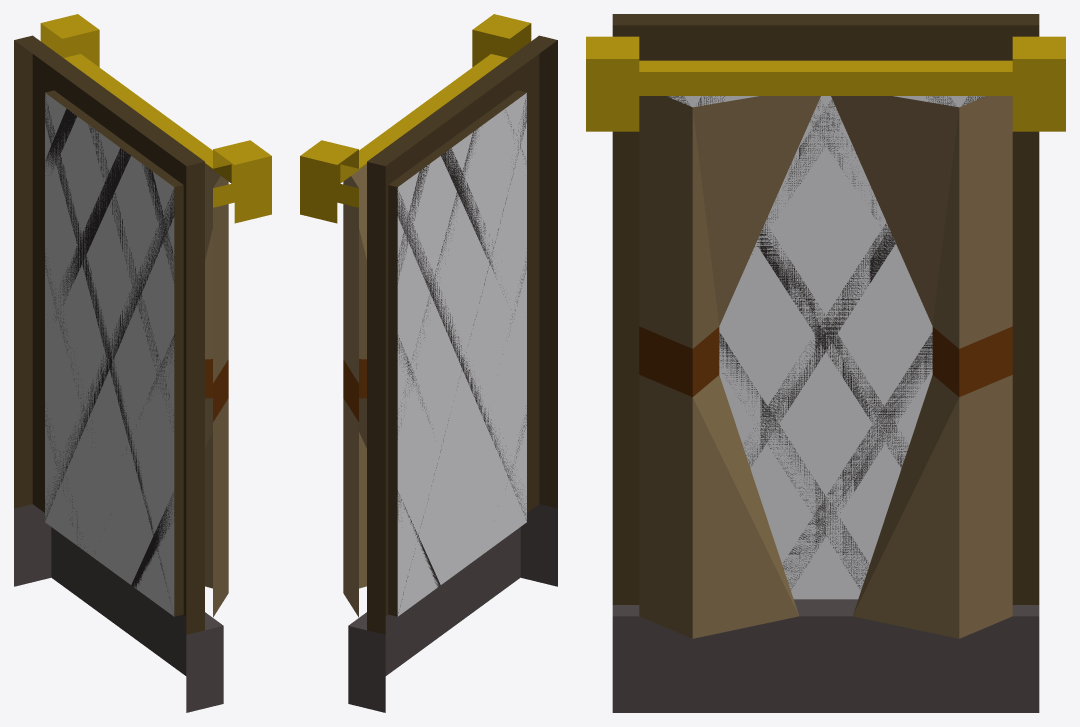
The model's file is model_loc_1824_q.obj.
3 views of the same model, side by side, from view 1: azimuth 30°, elevation 25°; view 2: azimuth 150°, elevation 25°; view 3: azimuth 270°, elevation 25° (orthographic). The views are drawn at different scales.
Parts seen in each view (by area): view 1: 2106; view 2: 2106; view 3: 2106.
Part boxes in pixels (left/top/right/bottom): 2106: left=14, top=14, right=271, bottom=712; 2106: left=300, top=14, right=557, bottom=712; 2106: left=586, top=14, right=1065, bottom=712.
Size of the model in its own units: 16 by 112 by 72.
